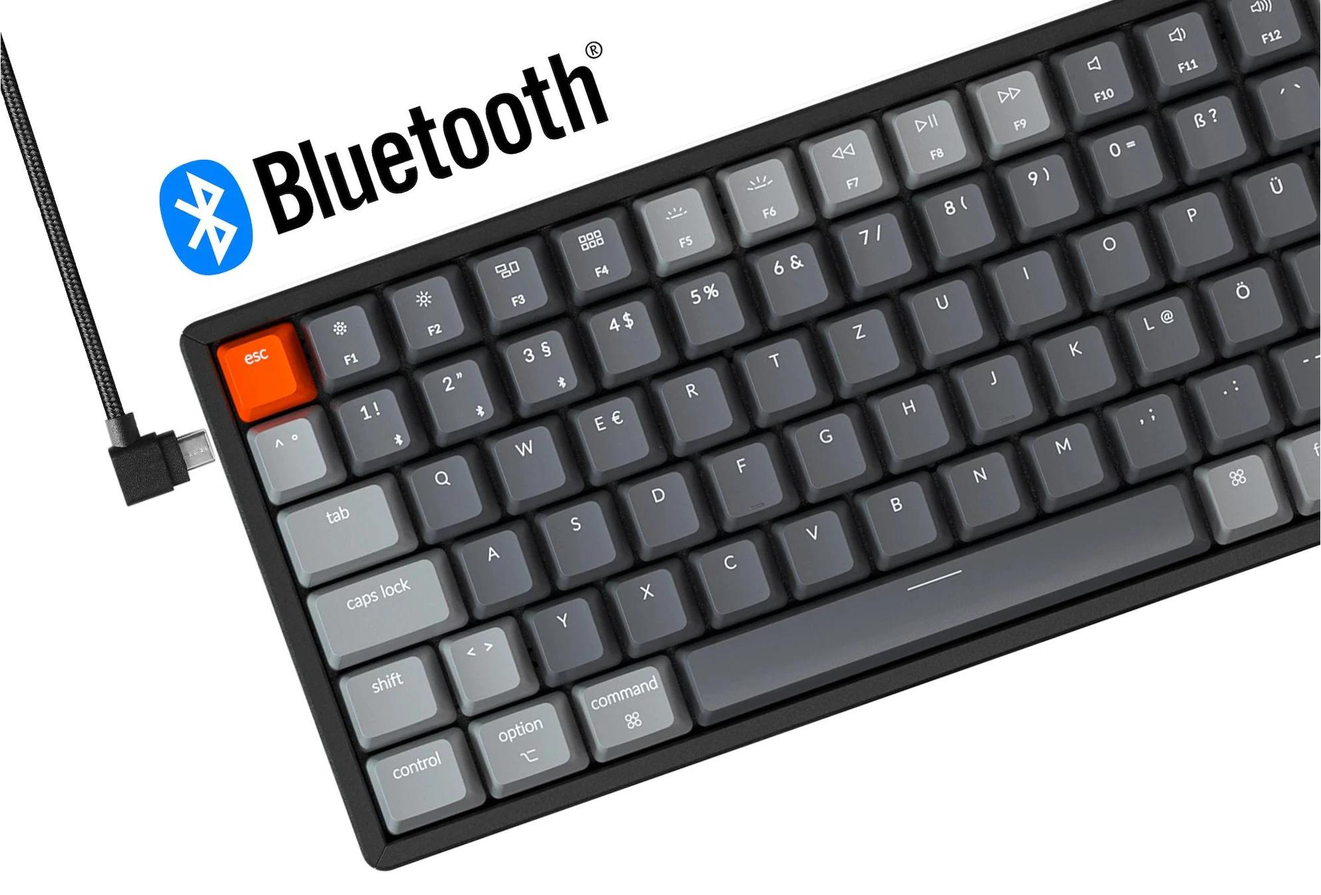0: (1088, 119, 1167, 202)
1: (336, 384, 411, 463)
2: (417, 354, 497, 436)
3: (501, 321, 581, 408)
4: (585, 294, 663, 376)
5: (668, 264, 746, 348)
6: (750, 234, 832, 318)
7: (836, 207, 914, 288)
8: (918, 176, 998, 259)
9: (1005, 148, 1084, 231)
a: (455, 521, 534, 608)
accent: (1256, 63, 1317, 145)
alt-left: (467, 693, 580, 794)
b: (857, 474, 944, 560)
c: (692, 532, 774, 619)
caret: (248, 410, 331, 498)
comma: (1107, 388, 1189, 473)
d: (620, 462, 702, 553)
e: (571, 388, 653, 475)
f: (703, 434, 784, 521)
g: (789, 403, 869, 493)
h: (870, 376, 953, 464)
i: (987, 242, 1070, 330)
j: (953, 346, 1036, 436)
k: (1038, 317, 1121, 406)
keyboard: (171, 2, 1318, 881)
l: (1121, 287, 1204, 378)
less: (438, 619, 529, 707)
m: (1024, 416, 1107, 505)
n: (939, 445, 1025, 532)
o: (1072, 214, 1155, 301)
oe: (1205, 258, 1286, 348)
p: (1155, 185, 1238, 271)
point: (1190, 358, 1273, 443)
q: (403, 447, 487, 534)
r: (655, 360, 737, 446)
s: (539, 493, 619, 580)
shift-left: (338, 647, 442, 745)
shift-lock: (303, 548, 461, 665)
space: (672, 471, 1211, 721)
ss: (1170, 88, 1249, 171)
strg-left: (365, 730, 474, 832)
t: (739, 332, 819, 416)
tab: (274, 475, 410, 585)
u: (906, 272, 987, 360)
ue: (1238, 155, 1316, 244)
v: (776, 503, 856, 589)
w: (489, 419, 568, 504)
x: (609, 562, 690, 648)
y: (527, 591, 606, 677)
z: (822, 302, 902, 387)
